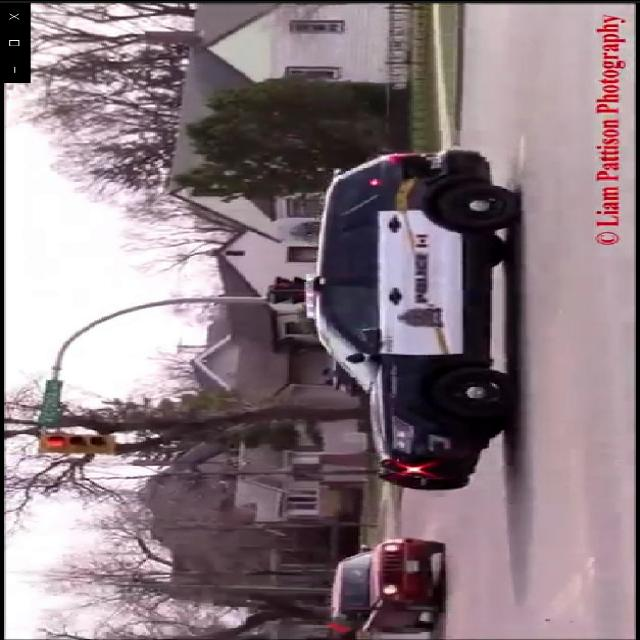emergency: (300, 146, 510, 492)
